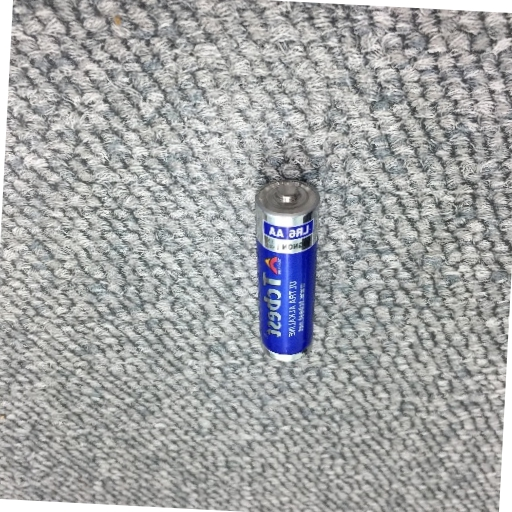Battery_0: (245, 168, 331, 376)
